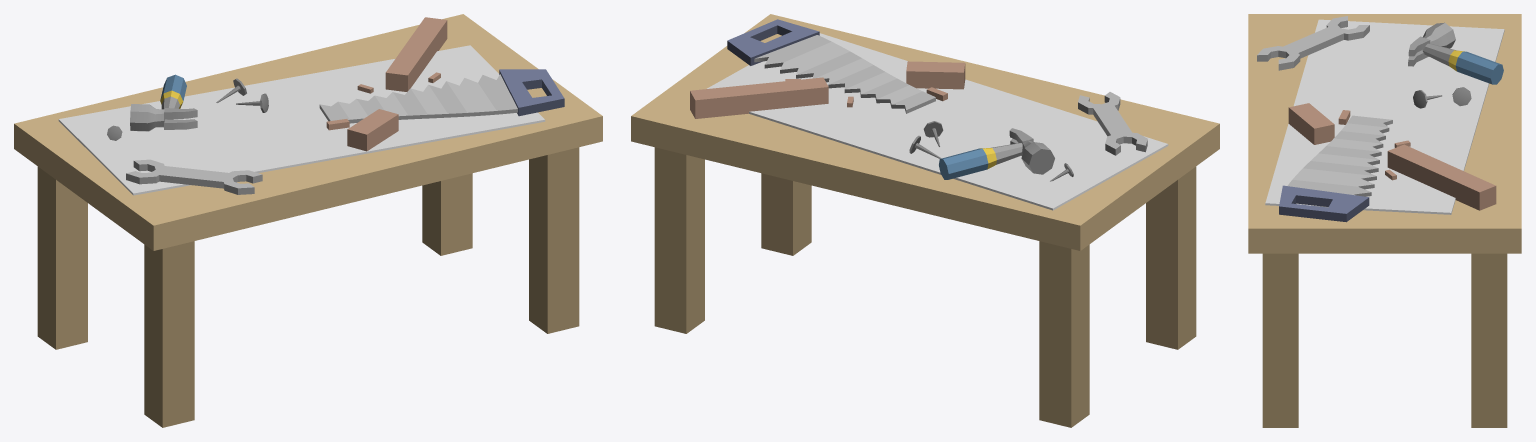
Rendered from WorkBench.fbx.
3 renders of one model, left to right at view 1: azimuth 30°, elevation 25°; view 2: azimuth 150°, elevation 25°; view 3: azimuth 270°, elevation 25°, orthographic. The views are drawn at different scales.
Parts seen in each view (by area): view 1: pCube17; view 2: pCube17; view 3: pCube17.
Part boxes in pixels (x1,y1,x2,y2): pCube17: [14, 14, 602, 427]; pCube17: [631, 14, 1219, 427]; pCube17: [1248, 14, 1521, 427].
Bounding box in the file's own units: 5.84 × 2.99 × 3.14.
